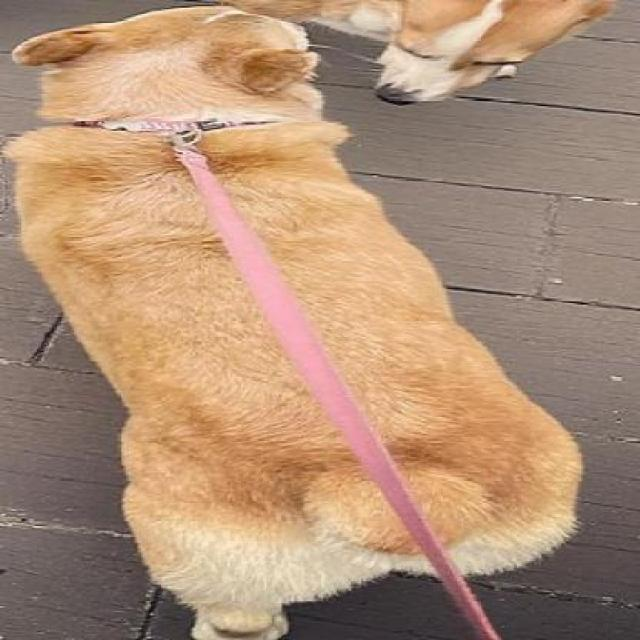Dog: (8, 1, 590, 637)
